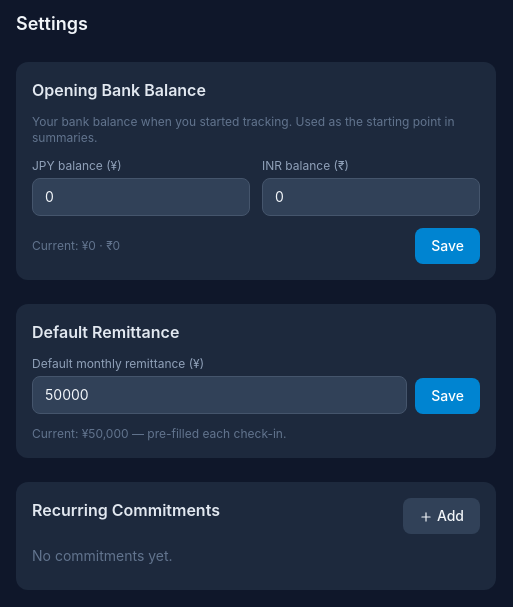
SettingsView (extended) › saves updated default remittance
Step 1. Replace the text in the number field labelled "Default monthly remittance (¥)" with "60000" → (220, 395), box left=32, top=376, right=407, bottom=414
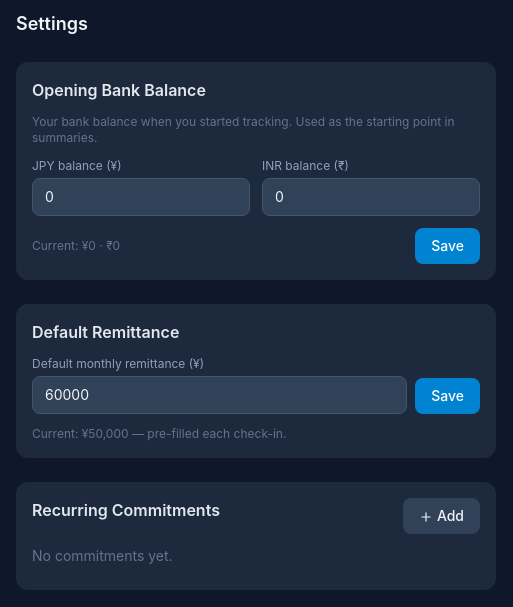
Step 2. Click the button "Save" below "Default monthly remittance (¥)" → click(448, 396), box left=415, top=378, right=480, bottom=414
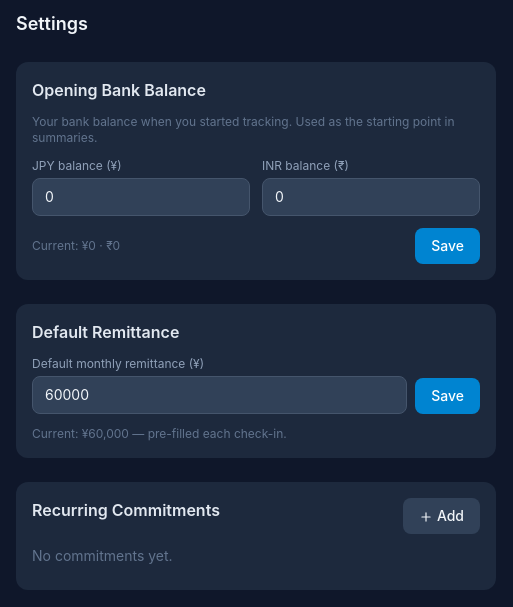
Check: the text "Current: ¥60,000 — pre-filled each check-in." is shown, box left=32, top=426, right=287, bottom=441
